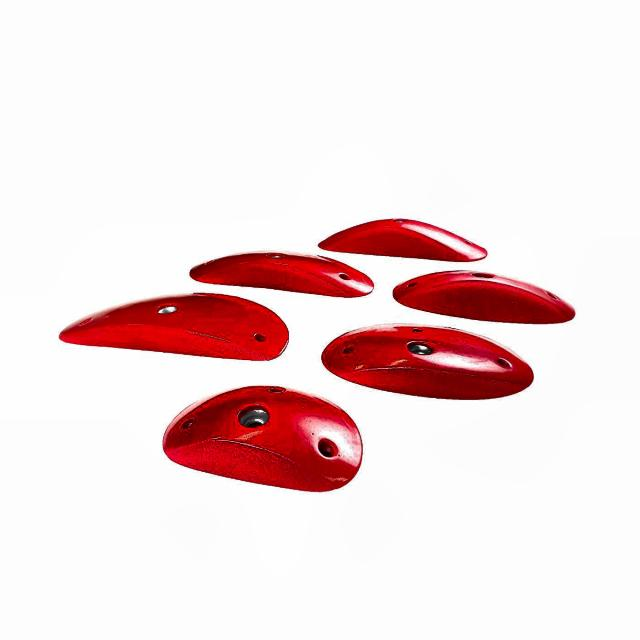Hold: (160, 384, 361, 494), (62, 288, 290, 363), (319, 324, 536, 400), (387, 263, 583, 323), (316, 210, 492, 264), (187, 249, 373, 299)
